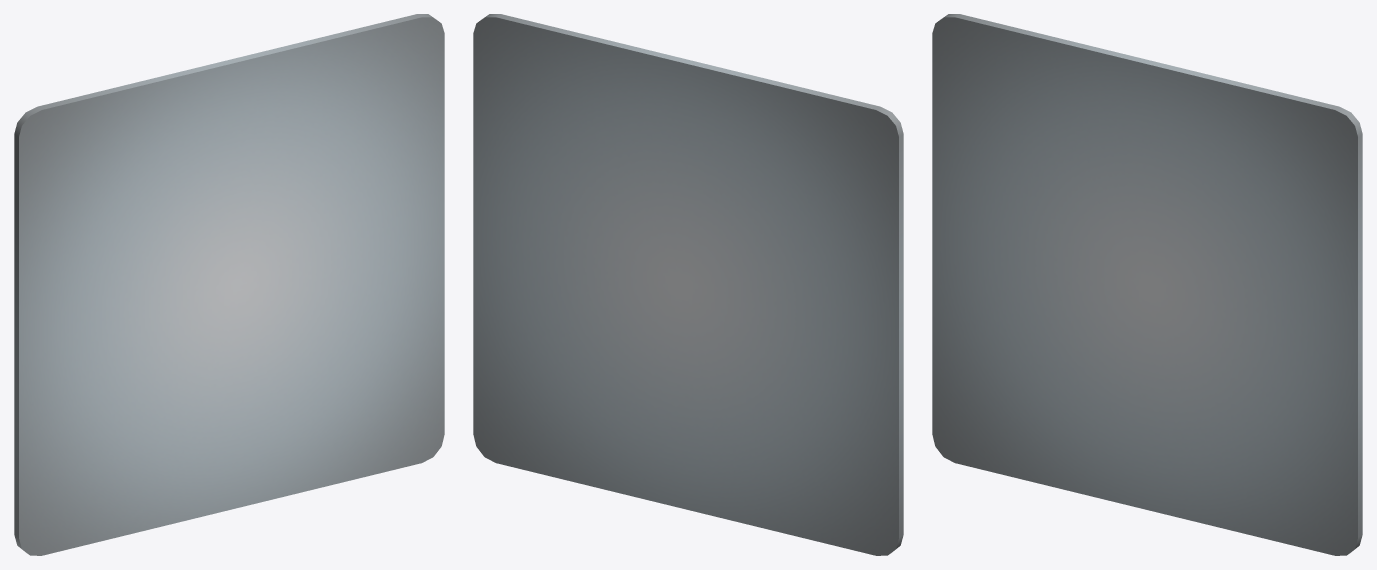
The model's file is rarity-bg-common.glb.
3 renders of one model, left to right at view 1: azimuth 30°, elevation 25°; view 2: azimuth 150°, elevation 25°; view 3: azimuth 330°, elevation 25°, orthographic.
Parts seen in each view (by area): view 1: rarity_bg_common; view 2: rarity_bg_common; view 3: rarity_bg_common.
Part boxes in pixels (box(x1,y1,x2,y2)): rarity_bg_common: box(14, 14, 444, 555); rarity_bg_common: box(473, 14, 903, 555); rarity_bg_common: box(932, 14, 1362, 555).
Size of the model in its own units: 1 by 1 by 0.0187.
Materials: 1 (1 with a texture image).
